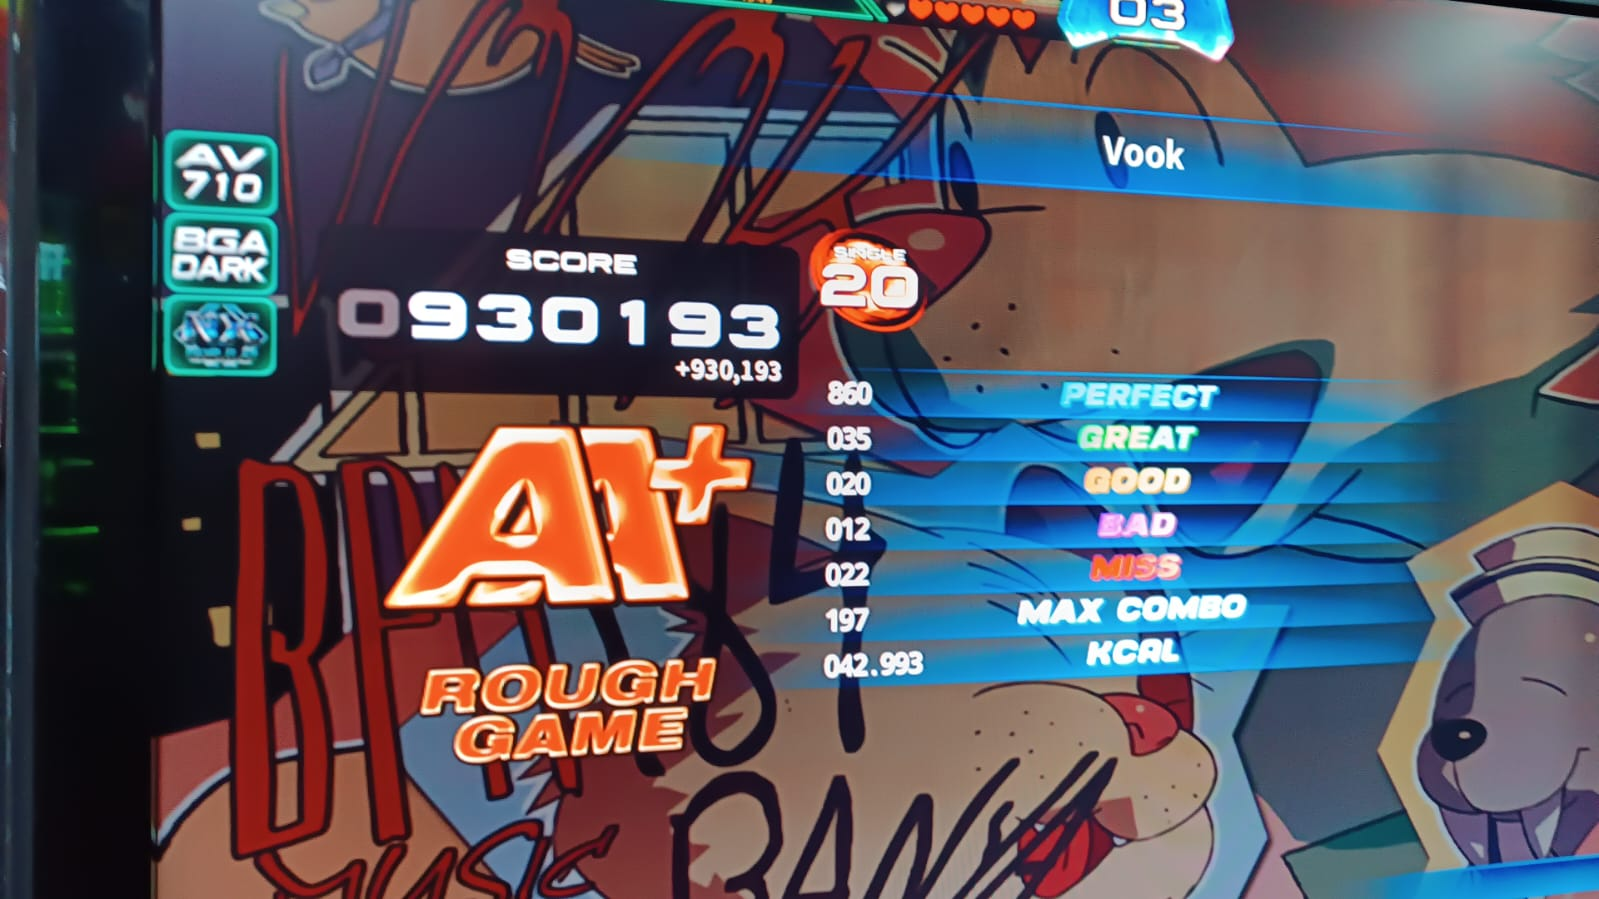difficulty: (804, 222, 921, 330)
fullscore: (0, 55, 1577, 899)
rank: (351, 414, 798, 632)
score: (318, 238, 824, 363)
song_name: (792, 78, 1545, 210)
